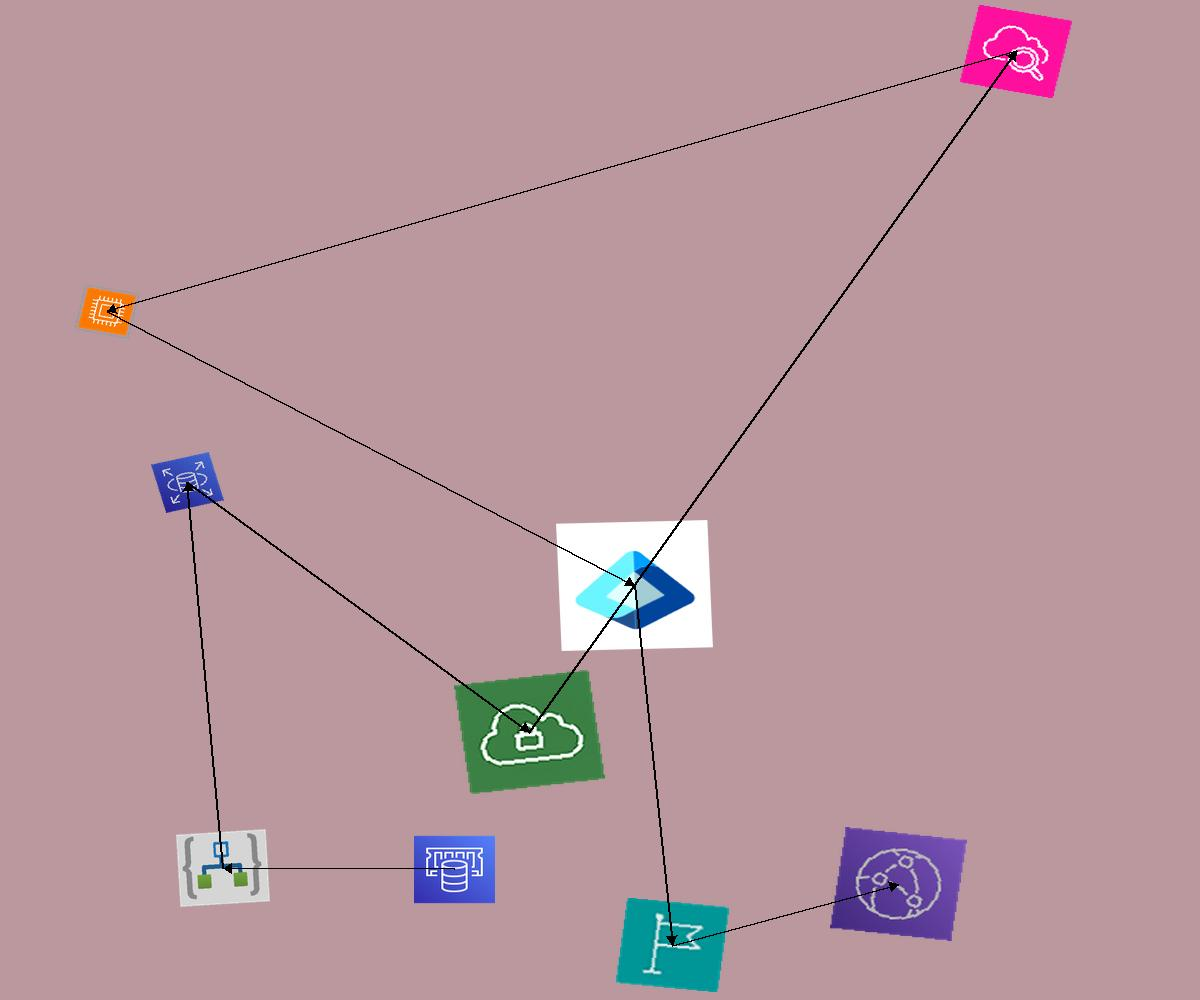AWS-Category_Compute: (74, 284, 140, 339)
AWS-CloudFront: (830, 827, 967, 941)
AWS-CloudWatch: (959, 4, 1073, 99)
AWS-ElastiCache: (413, 835, 496, 904)
AWS-Private_vpc: (454, 669, 605, 795)
AWS-RDS: (151, 452, 224, 513)
AWS-Region: (615, 897, 730, 993)
Azure_integration-204-Logic-Apps: (176, 829, 270, 907)
Azure_microsoft_entra: (556, 520, 713, 651)
